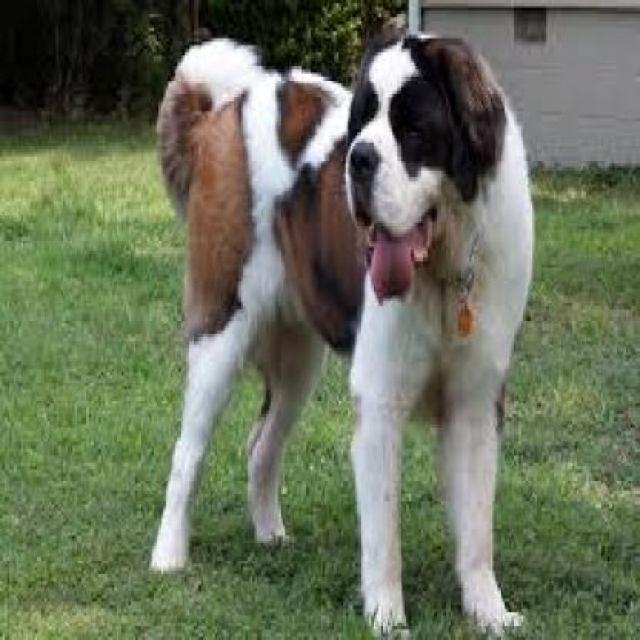animals: (112, 6, 640, 640)
